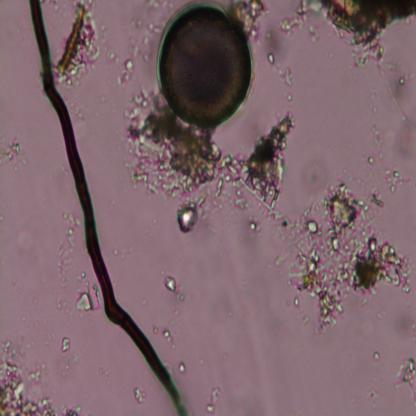Background material: (124, 91, 293, 227), (278, 182, 416, 333), (0, 338, 84, 414), (280, 0, 416, 42), (54, 0, 102, 88), (54, 212, 81, 308), (262, 27, 294, 85), (362, 154, 403, 190), (230, 0, 265, 41), (350, 40, 385, 72), (117, 42, 141, 86), (392, 116, 416, 160), (176, 200, 204, 237), (392, 356, 416, 395), (74, 284, 102, 315), (0, 138, 25, 172), (154, 324, 176, 352), (164, 273, 186, 301), (358, 384, 385, 406), (205, 387, 223, 412), (132, 387, 148, 405), (59, 335, 73, 354), (177, 360, 187, 374), (372, 349, 382, 363)
Diatom: (157, 5, 253, 128)
